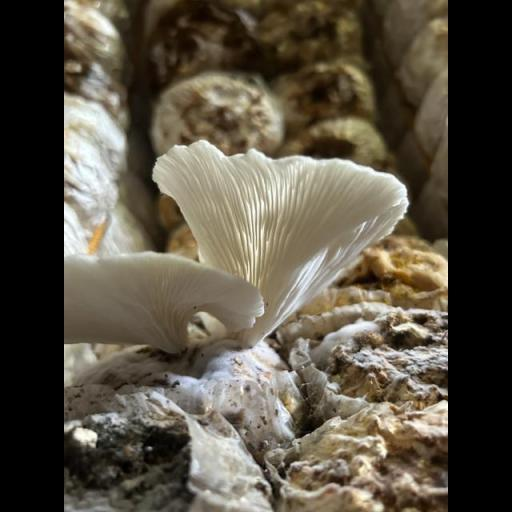White Oyster Mushroom: (64, 134, 413, 365)
